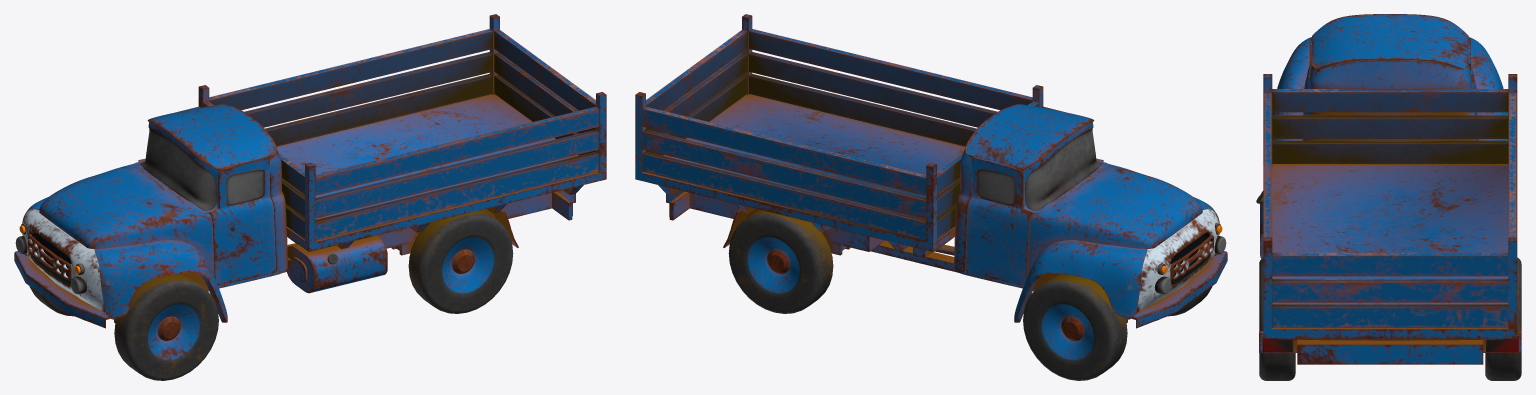
Rendered from uploads_files_3975032_Zil-130.fbx.
The picture shows the model from 3 angles, left to right: view 1: azimuth 30°, elevation 25°; view 2: azimuth 150°, elevation 25°; view 3: azimuth 270°, elevation 25°; orthographic projection. The views are drawn at different scales.
Parts seen in each view (by area): view 1: Cube.003, Cube.008, Cube.009, Cube.010, Plane, Cylinder.003, Cylinder.006, Plane.003, Plane.001, Plane.005, Cube.013, Plane.002 (+10 smaller); view 2: Cube.003, Cube.008, Cube.009, Cube.010, Plane, Cylinder.003, Cylinder.006, Plane.003, Plane.001, Plane.005, Plane.002, Plane.007 (+9 smaller); view 3: Cube.003, Cube.007, Cube.006, Cube.005, Plane.005, Cube.011, Plane.006, Cylinder.006, Plane.001, Cube.008, Cube.004, Plane.003.
Boxes of the visible parts, x1,y1,x2,y2 form: Cube.003: (198, 14, 606, 251); Cube.008: (209, 29, 599, 195); Cube.009: (244, 52, 599, 218); Cube.010: (265, 73, 599, 240); Plane: (39, 163, 285, 313); Cylinder.003: (29, 274, 218, 380); Cylinder.006: (408, 209, 513, 313); Plane.003: (138, 106, 275, 285); Plane.001: (22, 197, 227, 322); Plane.005: (147, 104, 275, 170); Cube.013: (286, 235, 387, 293); Plane.002: (22, 208, 105, 311); Cube.003: (635, 14, 1043, 251); Cube.008: (642, 29, 1032, 195); Cube.009: (642, 52, 997, 218); Cube.010: (642, 73, 976, 240); Plane: (956, 163, 1202, 313); Cylinder.003: (1023, 274, 1212, 380); Cylinder.006: (728, 209, 833, 313); Plane.003: (966, 106, 1103, 285); Plane.001: (1014, 197, 1219, 322); Plane.005: (966, 104, 1094, 170); Plane.002: (1136, 208, 1219, 311); Plane.007: (1025, 129, 1101, 210); Cube.003: (1263, 74, 1517, 338); Cube.007: (1272, 89, 1508, 276); Cube.006: (1272, 115, 1508, 302); Cube.005: (1272, 140, 1508, 327); Plane.005: (1311, 14, 1469, 68); Cube.011: (1259, 331, 1521, 364); Plane.006: (1302, 60, 1478, 141); Cylinder.006: (1259, 257, 1521, 380); Plane.001: (1272, 37, 1508, 140); Cube.008: (1264, 92, 1516, 237); Cube.004: (1277, 338, 1503, 340); Plane.003: (1303, 38, 1477, 115).
Size of the model in its own units: 304 by 114 by 120.
